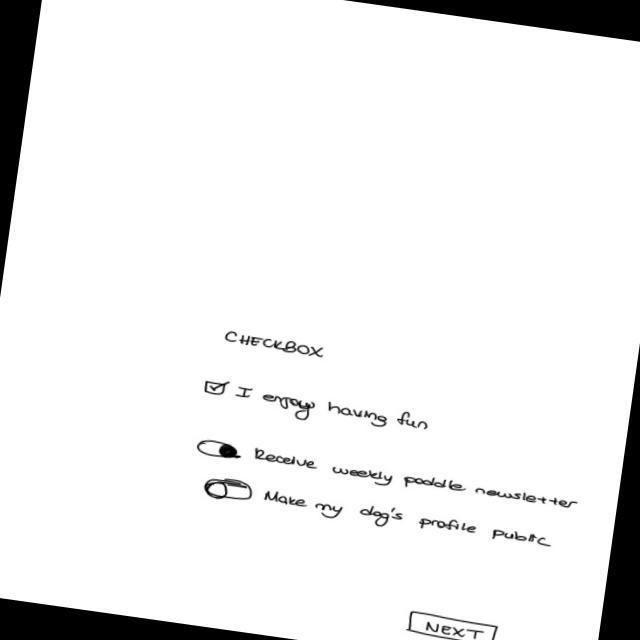button: (406, 610, 501, 640)
checkbox: (200, 379, 433, 442)
label: (251, 446, 584, 513), (261, 488, 557, 553), (223, 329, 332, 361)
toggle: (202, 476, 256, 506), (195, 438, 245, 463)
